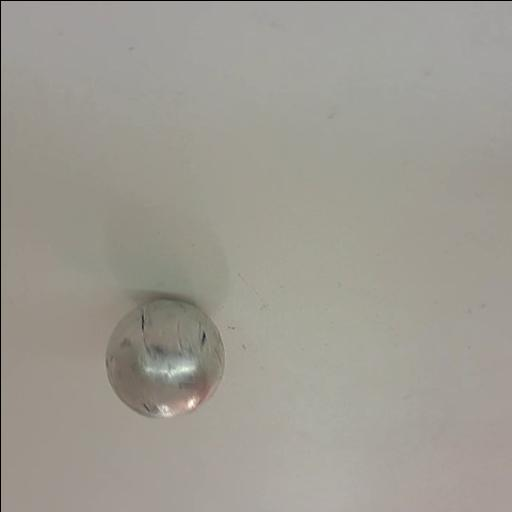alive: (102, 298, 226, 420)
